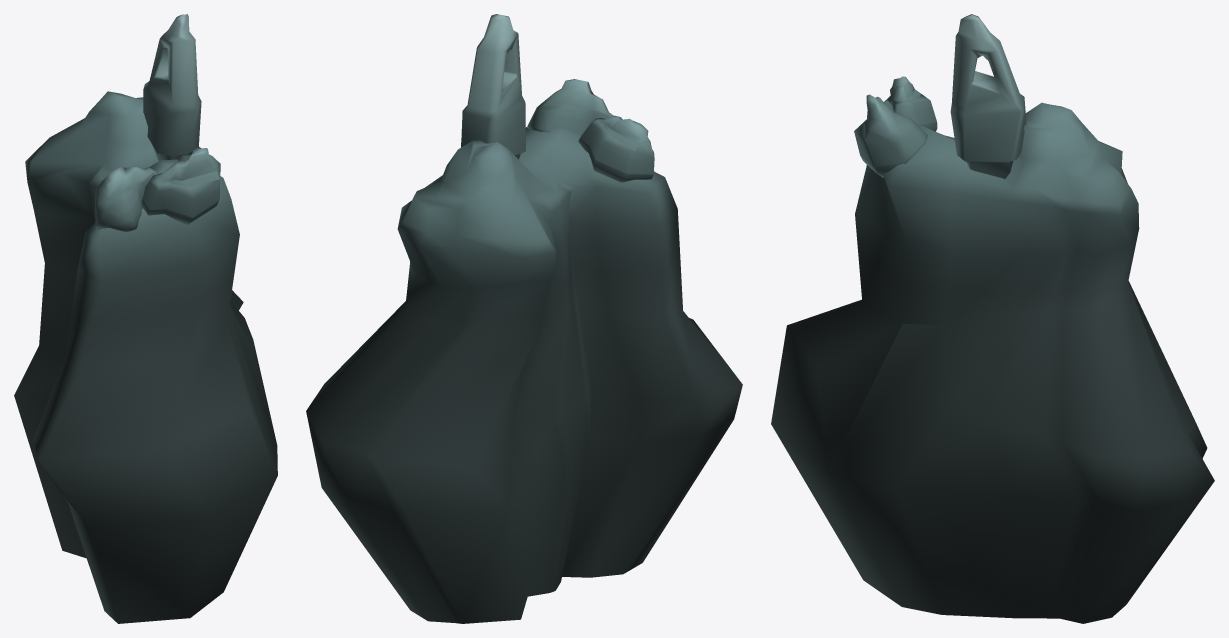
File: ISLAND_01.fbx
3 views of the same model, side by side, from view 1: azimuth 30°, elevation 25°; view 2: azimuth 150°, elevation 25°; view 3: azimuth 270°, elevation 25° (orthographic). The views are drawn at different scales.
Visible parts, largest first — view 1: ISLAND_01_BASE, ISLAND_01_PART_B, ISLAND_01_PART_A, ISLAND_01_PART_A1; view 2: ISLAND_01_BASE, ISLAND_01_PART_B, ISLAND_01_PART_A1, ISLAND_01_PART_A; view 3: ISLAND_01_BASE, ISLAND_01_PART_B, ISLAND_01_PART_A, ISLAND_01_PART_A1.
Part boxes in pixels (<box>): ISLAND_01_BASE: <box>14,91,277,623</box>; ISLAND_01_PART_B: <box>143,14,201,160</box>; ISLAND_01_PART_A: <box>141,148,220,224</box>; ISLAND_01_PART_A1: <box>94,166,157,231</box>; ISLAND_01_BASE: <box>306,127,742,623</box>; ISLAND_01_PART_B: <box>461,14,525,159</box>; ISLAND_01_PART_A1: <box>578,115,654,182</box>; ISLAND_01_PART_A: <box>527,79,613,136</box>; ISLAND_01_BASE: <box>771,102,1214,623</box>; ISLAND_01_PART_B: <box>950,14,1026,178</box>; ISLAND_01_PART_A: <box>854,94,927,177</box>; ISLAND_01_PART_A1: <box>885,76,937,131</box>.
Bounding box in the file's own units: 36.82 × 62.63 × 42.71.
